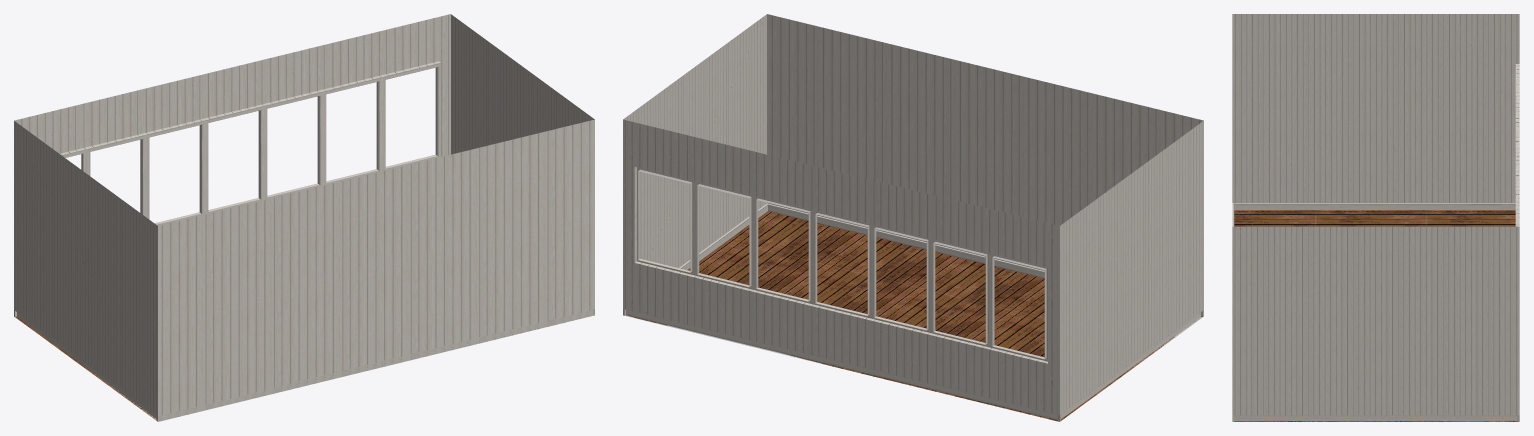
Rendered from room.glb.
3 renders of one model, left to right at view 1: azimuth 30°, elevation 25°; view 2: azimuth 150°, elevation 25°; view 3: azimuth 270°, elevation 25°, orthographic.
Visible parts, largest first — view 1: Back wall.001, Right wall.001, Front wall.001, Left wall.001; view 2: Front wall.001, Back wall.001, Right wall.001, Floor.001, Left wall.001; view 3: Left wall.001, Right wall.001, Floor.001, Front wall.001.
Part boxes in pixels (x1,y1,x2,y2): Back wall.001: (157,119,594,421); Right wall.001: (14,121,157,419); Front wall.001: (14,14,450,316); Left wall.001: (451,14,594,315); Front wall.001: (623,119,1060,421); Back wall.001: (766,14,1203,316); Right wall.001: (1058,121,1203,421); Floor.001: (627,211,1195,421); Left wall.001: (623,14,767,315); Left wall.001: (1232,226,1519,421); Right wall.001: (1232,14,1519,210); Floor.001: (1234,210,1517,421); Front wall.001: (1515,64,1519,421).
Bounding box in the file's own units: 7 × 3 × 4.
Materials: 2 (2 with a texture image).
